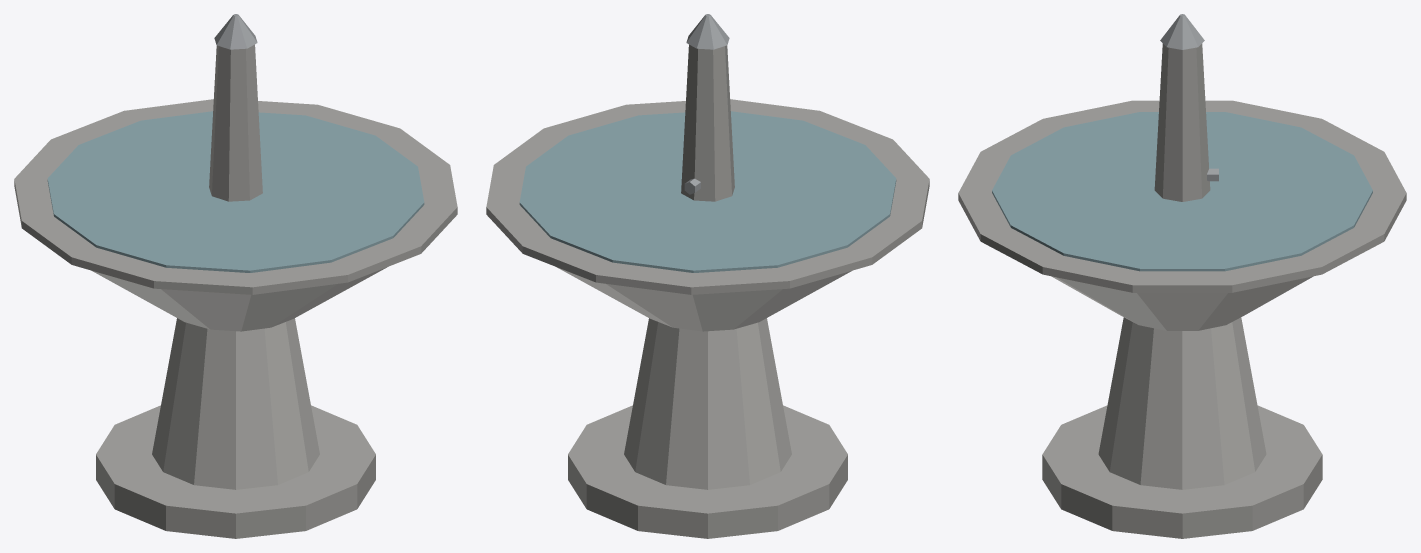
File: fountain_round.glb
3 renders of one model, left to right at view 1: azimuth 30°, elevation 25°; view 2: azimuth 150°, elevation 25°; view 3: azimuth 270°, elevation 25°, orthographic.
Bounding box in the file's own units: 1.56 × 1.83 × 1.6.
